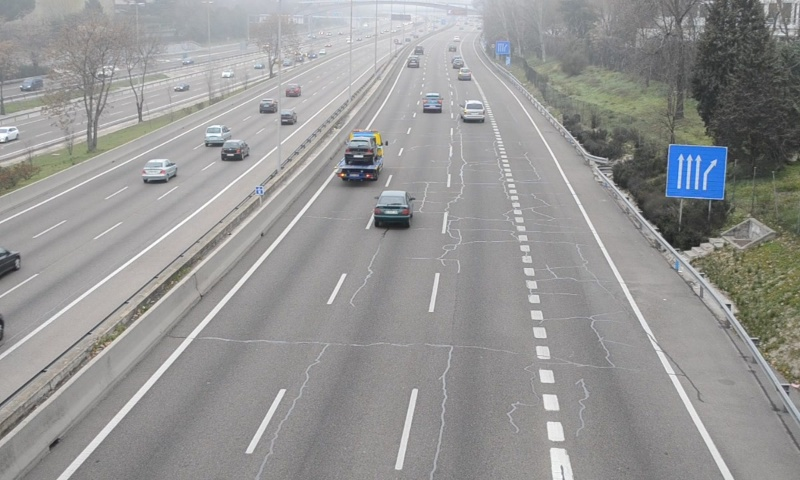car: (373, 190, 411, 224), (460, 100, 485, 120), (421, 93, 443, 112)
small-truck: (336, 130, 384, 182)
